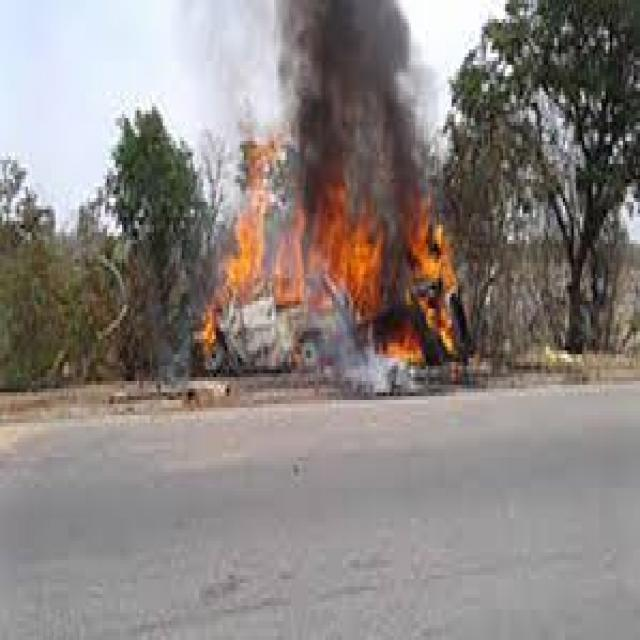fire: (204, 144, 461, 388)
smoke: (278, 4, 426, 236), (173, 4, 276, 141)
